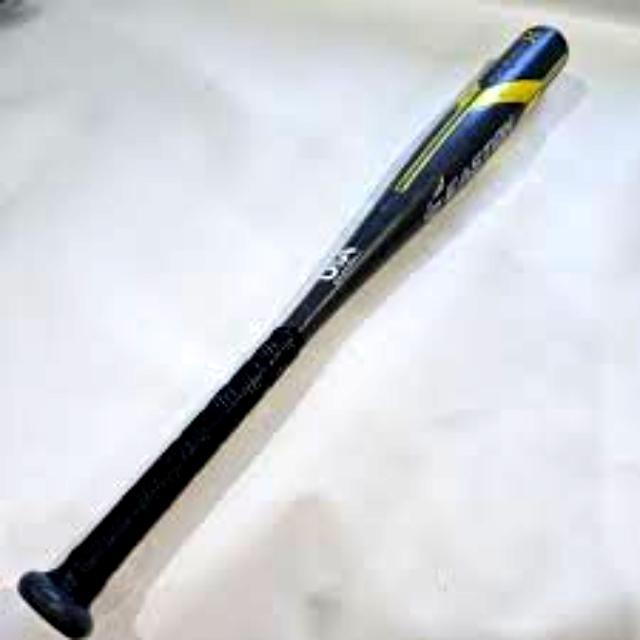baseball bat: (25, 22, 580, 640)
